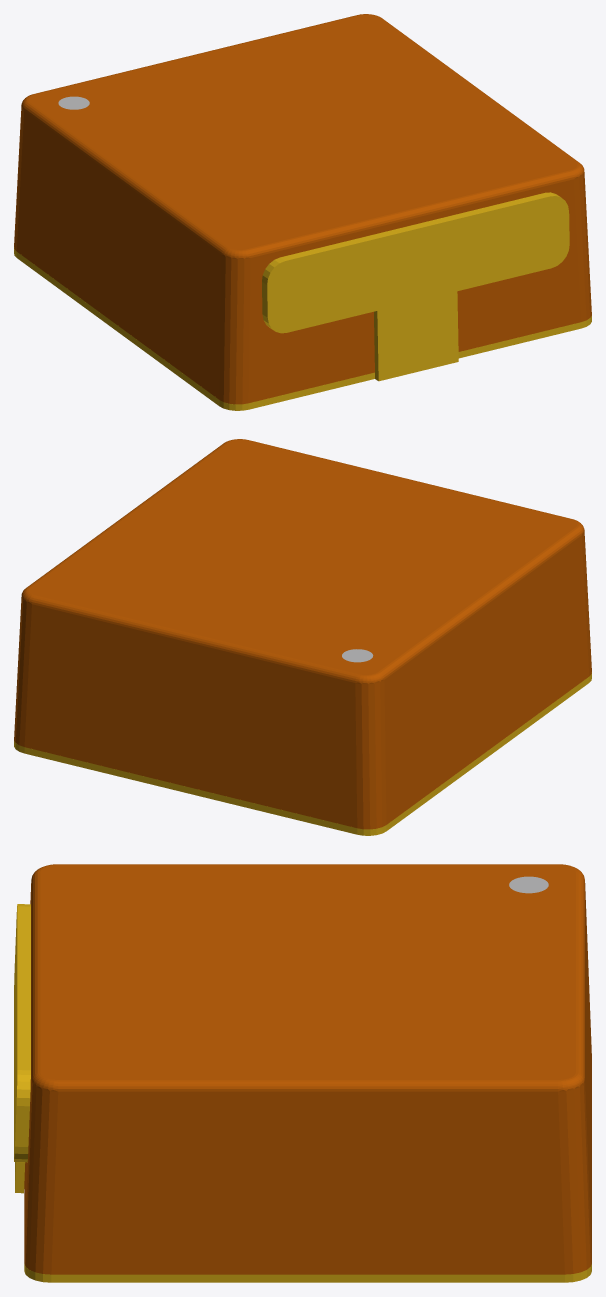
Rendered from thingy91x2.glb.
3 views of the same model, one above another, from view 1: azimuth 30°, elevation 25°; view 2: azimuth 150°, elevation 25°; view 3: azimuth 270°, elevation 25° (orthographic). The views are drawn at different scales.
Parts seen in each view (by area): view 1: Body1, Body2; view 2: Body1, Body2; view 3: Body1, Body2, Body3.
Boxes of the visible parts, x1=… form: Body1: x1=14, y1=14, x2=591, y2=404; Body2: x1=14, y1=192, x2=591, y2=410; Body1: x1=14, y1=439, x2=591, y2=829; Body2: x1=14, y1=672, x2=591, y2=835; Body1: x1=24, y1=864, x2=591, y2=1274; Body2: x1=14, y1=904, x2=591, y2=1282; Body3: x1=509, y1=876, x2=548, y2=893.
Bounding box in the file's own units: 6 × 2.4 × 6.41.
